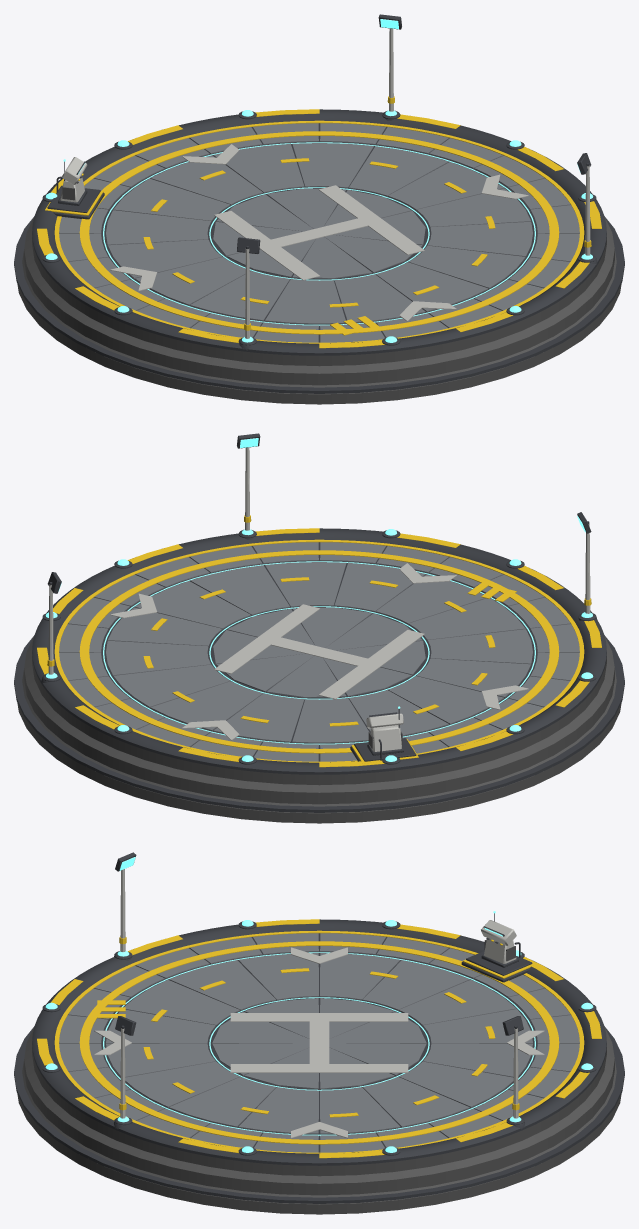
Rendered from landing_pad_a.glb.
The picture shows the model from 3 angles, top to bottom: view 1: azimuth 30°, elevation 25°; view 2: azimuth 150°, elevation 25°; view 3: azimuth 270°, elevation 25°; orthographic projection.
Parts seen in each view (by area): view 1: Pad, Console; view 2: Pad, Console; view 3: Pad, Console.
Boxes of the visible parts, left/top/right/bottom form: Pad: left=14, top=14, right=624, bottom=404; Console: left=45, top=157, right=104, bottom=219; Pad: left=14, top=433, right=624, bottom=823; Console: left=350, top=706, right=418, bottom=763; Pad: left=14, top=852, right=624, bottom=1214; Console: left=461, top=911, right=534, bottom=982.
Size of the model in its own units: 19.24 by 5.18 by 19.24.
